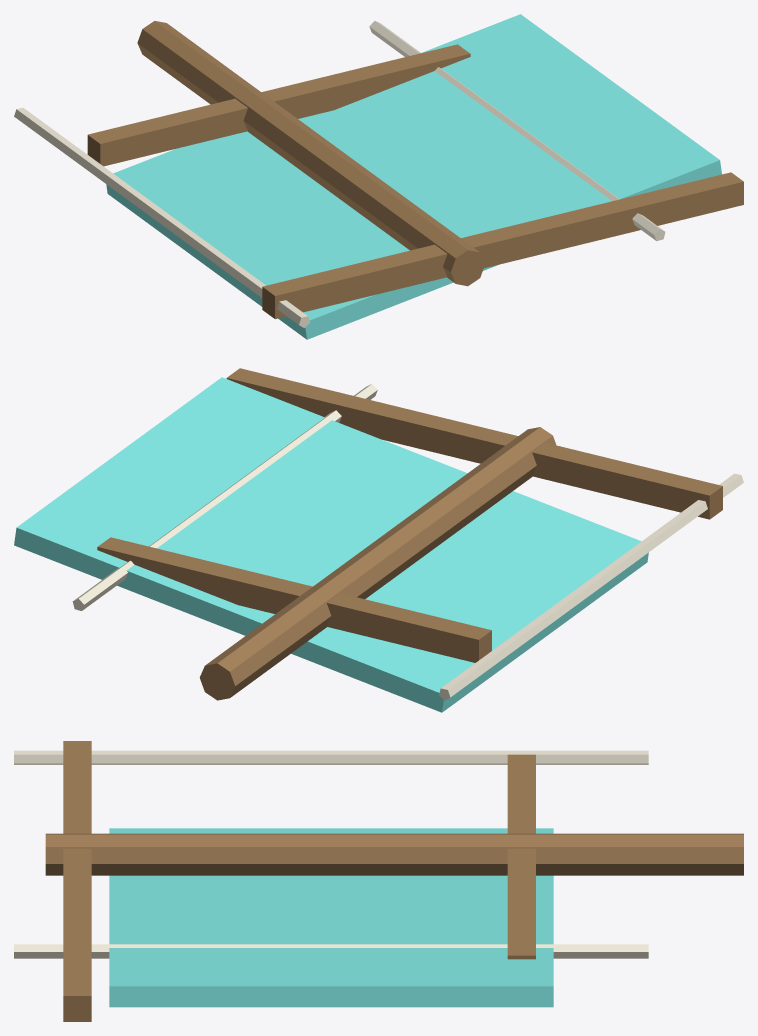
File: 07_skyship_rigging.glb
3 renders of one model, top to bottom at view 1: azimuth 30°, elevation 25°; view 2: azimuth 150°, elevation 25°; view 3: azimuth 270°, elevation 25°, orthographic. The views are drawn at different scales.
Parts seen in each view (by area): view 1: sail_panel, spar_top, mast, spar_bottom, rigging_line_l, rigging_line_r; view 2: sail_panel, mast, spar_top, spar_bottom, rigging_line_l, rigging_line_r; view 3: sail_panel, mast, rigging_line_l, spar_top, spar_bottom, rigging_line_r.
Boxes of the visible parts, bbox=[...] form: sail_panel: bbox=[106, 14, 721, 339]; spar_top: bbox=[262, 172, 743, 319]; mast: bbox=[137, 21, 484, 286]; spar_bottom: bbox=[87, 44, 470, 166]; rigging_line_l: bbox=[14, 107, 309, 327]; rigging_line_r: bbox=[369, 21, 665, 241]; sail_panel: bbox=[14, 377, 648, 712]; mast: bbox=[199, 427, 556, 700]; spar_top: bbox=[226, 368, 722, 519]; spar_bottom: bbox=[97, 537, 491, 662]; rigging_line_l: bbox=[439, 473, 743, 700]; rigging_line_r: bbox=[72, 384, 377, 610]; sail_panel: bbox=[109, 828, 553, 1007]; mast: bbox=[45, 833, 743, 875]; rigging_line_l: bbox=[14, 750, 648, 764]; spar_top: bbox=[63, 741, 91, 1021]; spar_bottom: bbox=[507, 754, 535, 959]; rigging_line_r: bbox=[14, 944, 648, 958].
Size of the model in its own units: 1.04 by 0.1683 by 1.27.
